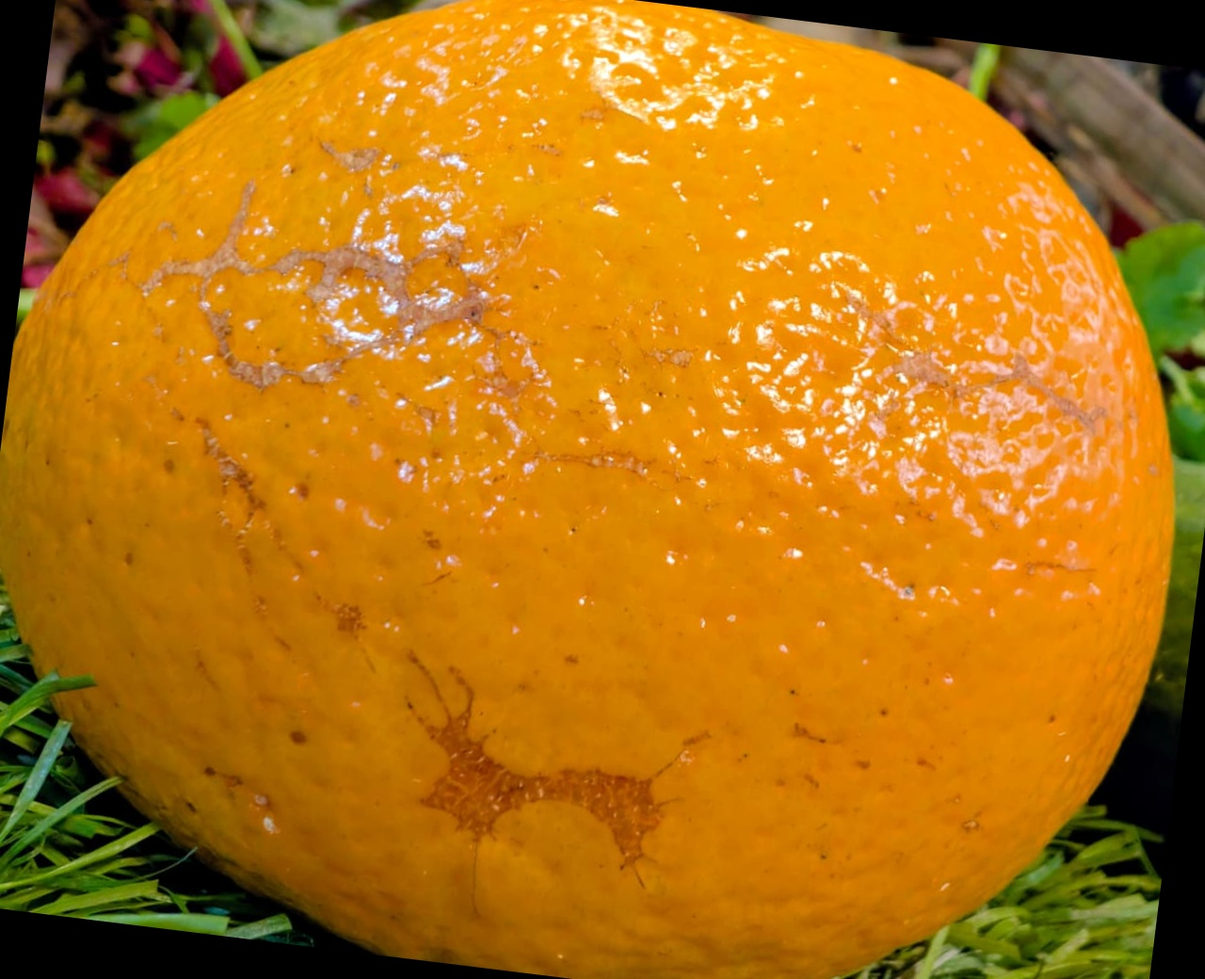orange: (137, 112, 1055, 752)
